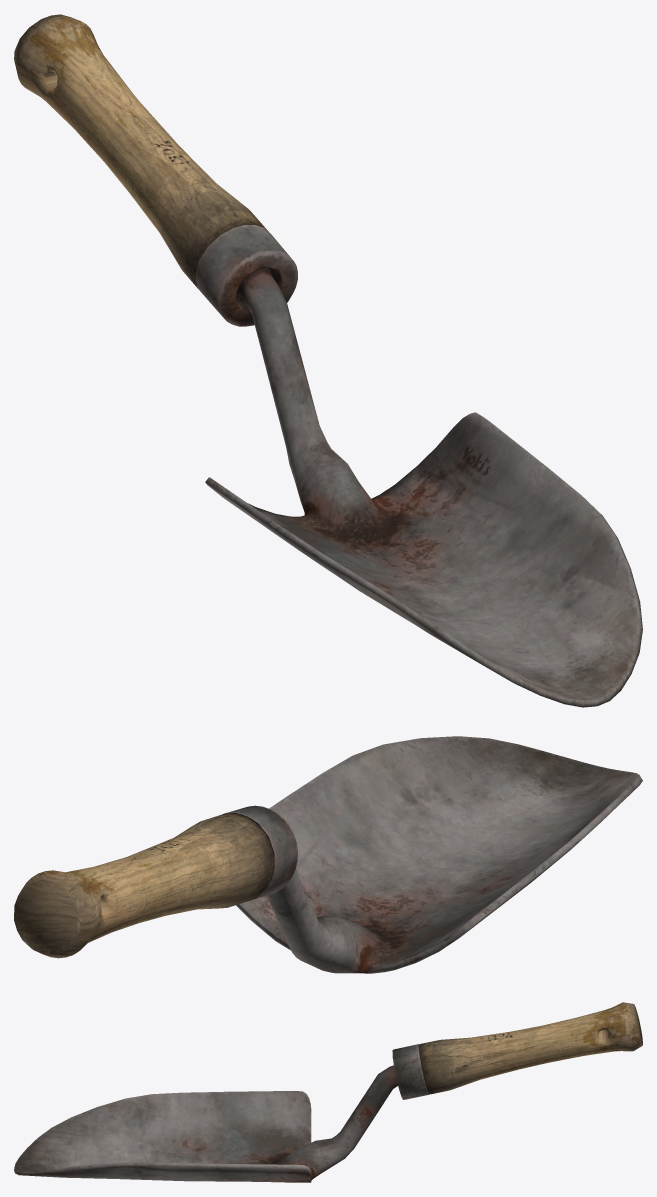
File: trowel_01.glb
The picture shows the model from 3 angles, top to bottom: view 1: azimuth 30°, elevation 25°; view 2: azimuth 150°, elevation 25°; view 3: azimuth 270°, elevation 25°; orthographic projection. The views are drawn at different scales.
Parts seen in each view (by area): view 1: trowel_01; view 2: trowel_01; view 3: trowel_01.
Part boxes in pixels (x1=…): trowel_01: x1=14, y1=14, x2=642, y2=707; trowel_01: x1=14, y1=736, x2=642, y2=973; trowel_01: x1=14, y1=1002, x2=642, y2=1182.
Size of the model in its own units: 0.0991 by 0.1026 by 0.3469.
Materials: 1 (1 with a texture image).
